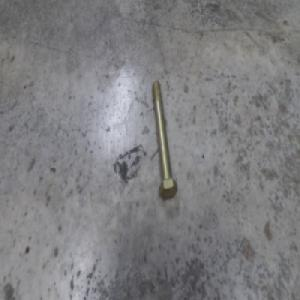Bolt: (151, 79, 177, 202)
